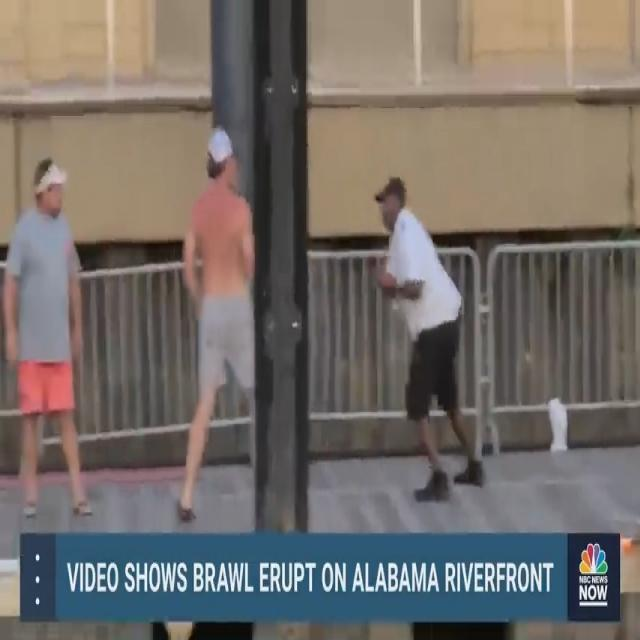non-fight: (363, 170, 501, 510), (167, 94, 265, 527), (0, 150, 98, 540)
